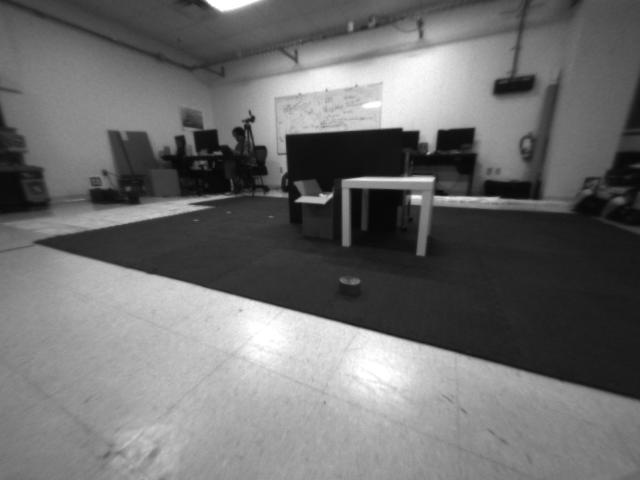dogtoy: (327, 263, 372, 309)
